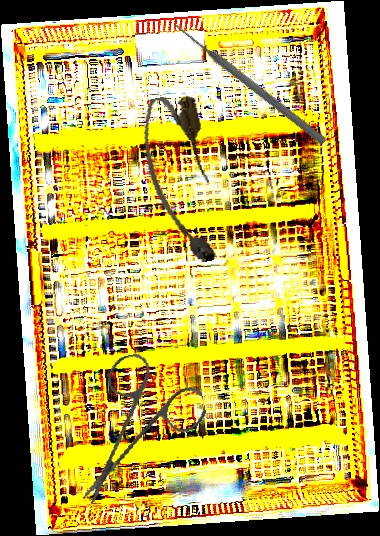Cannula: (135, 90, 227, 270)
Iris Scissors: (56, 342, 220, 506)
Pusher: (170, 19, 329, 147)
